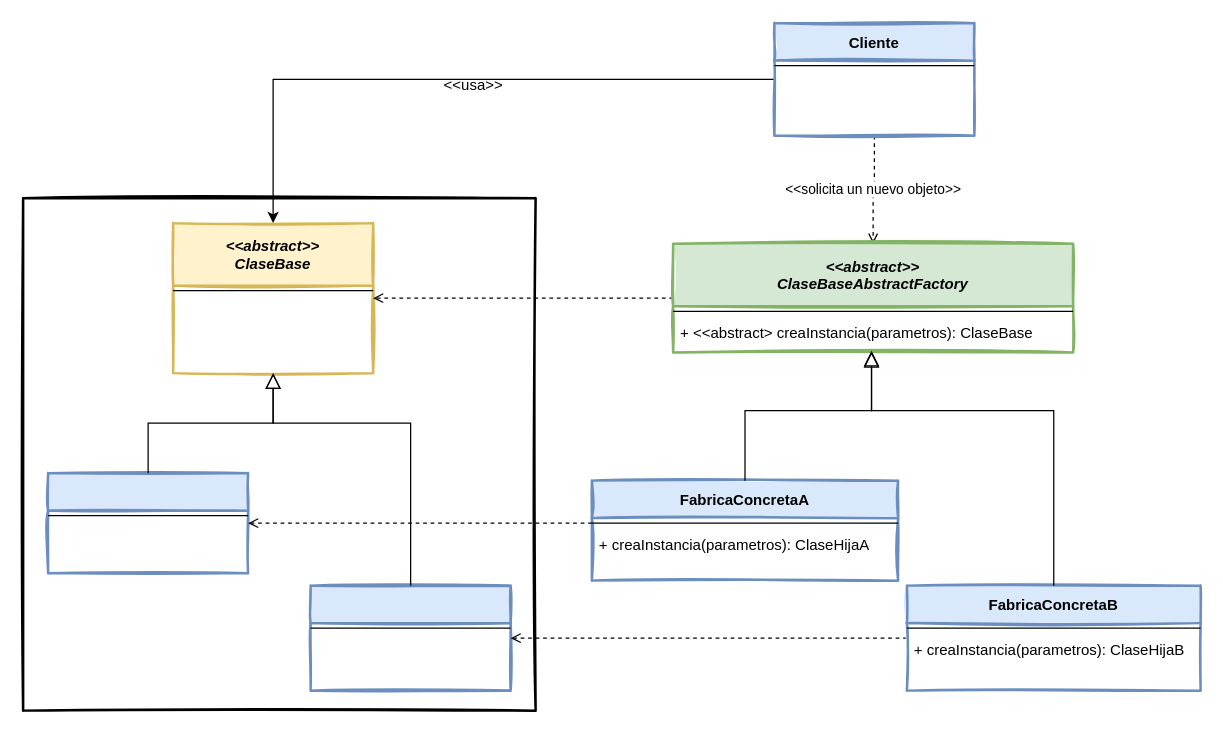
Some shapes in this 1223 by 733 pixel diagram are drawn without their labels. Each missing label, with the centre of its shape:
ClaseHijaA: the point at 147,522
ClaseHijaB: the point at 410,637
